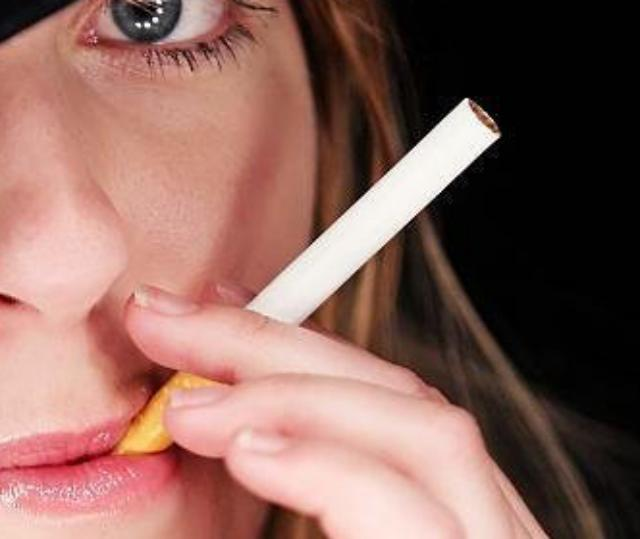Smoking: (102, 97, 500, 477)
